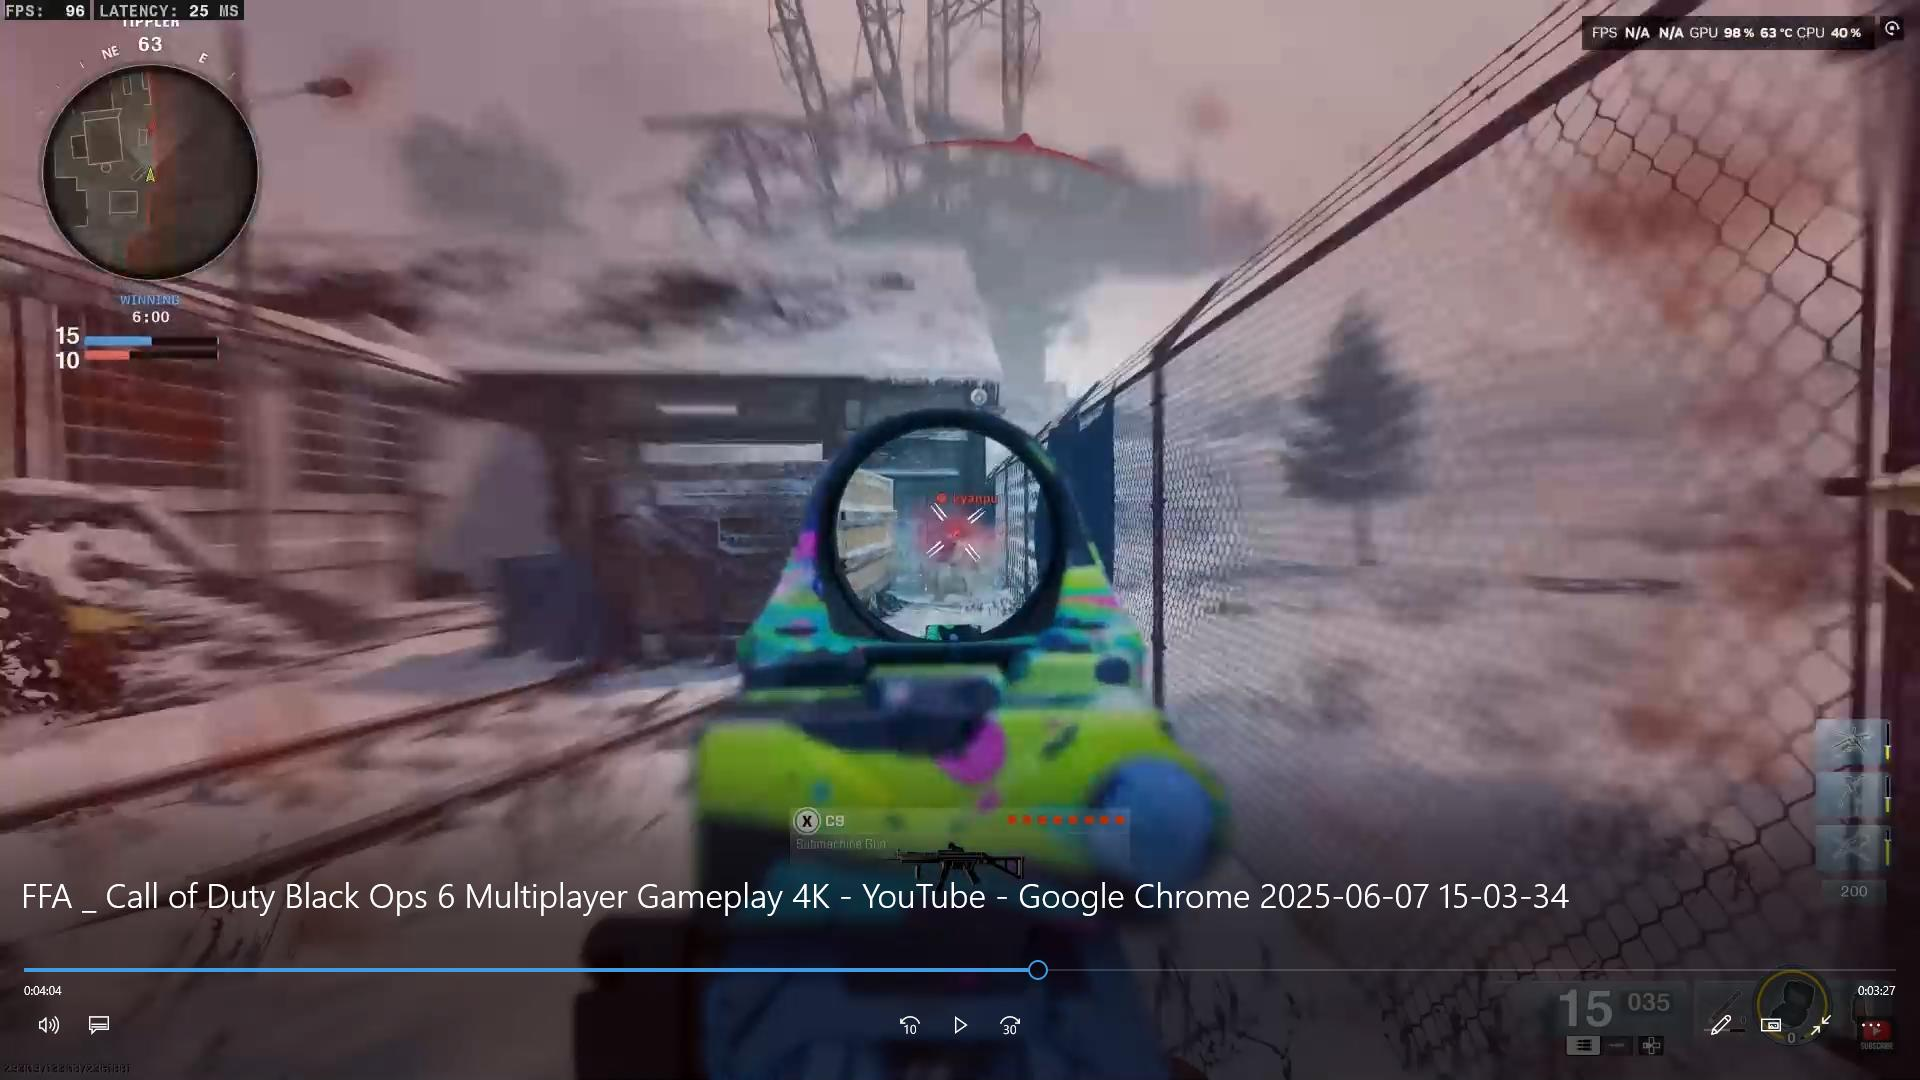Enemy: (926, 510, 985, 612)
